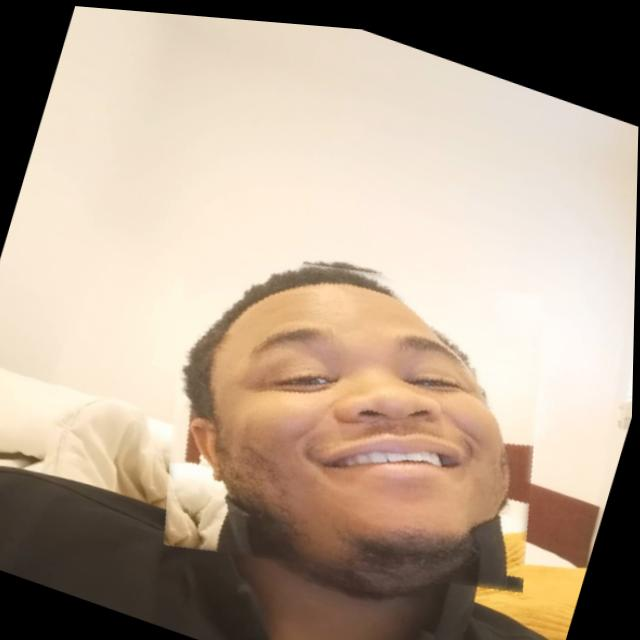happy: (123, 188, 590, 639)
